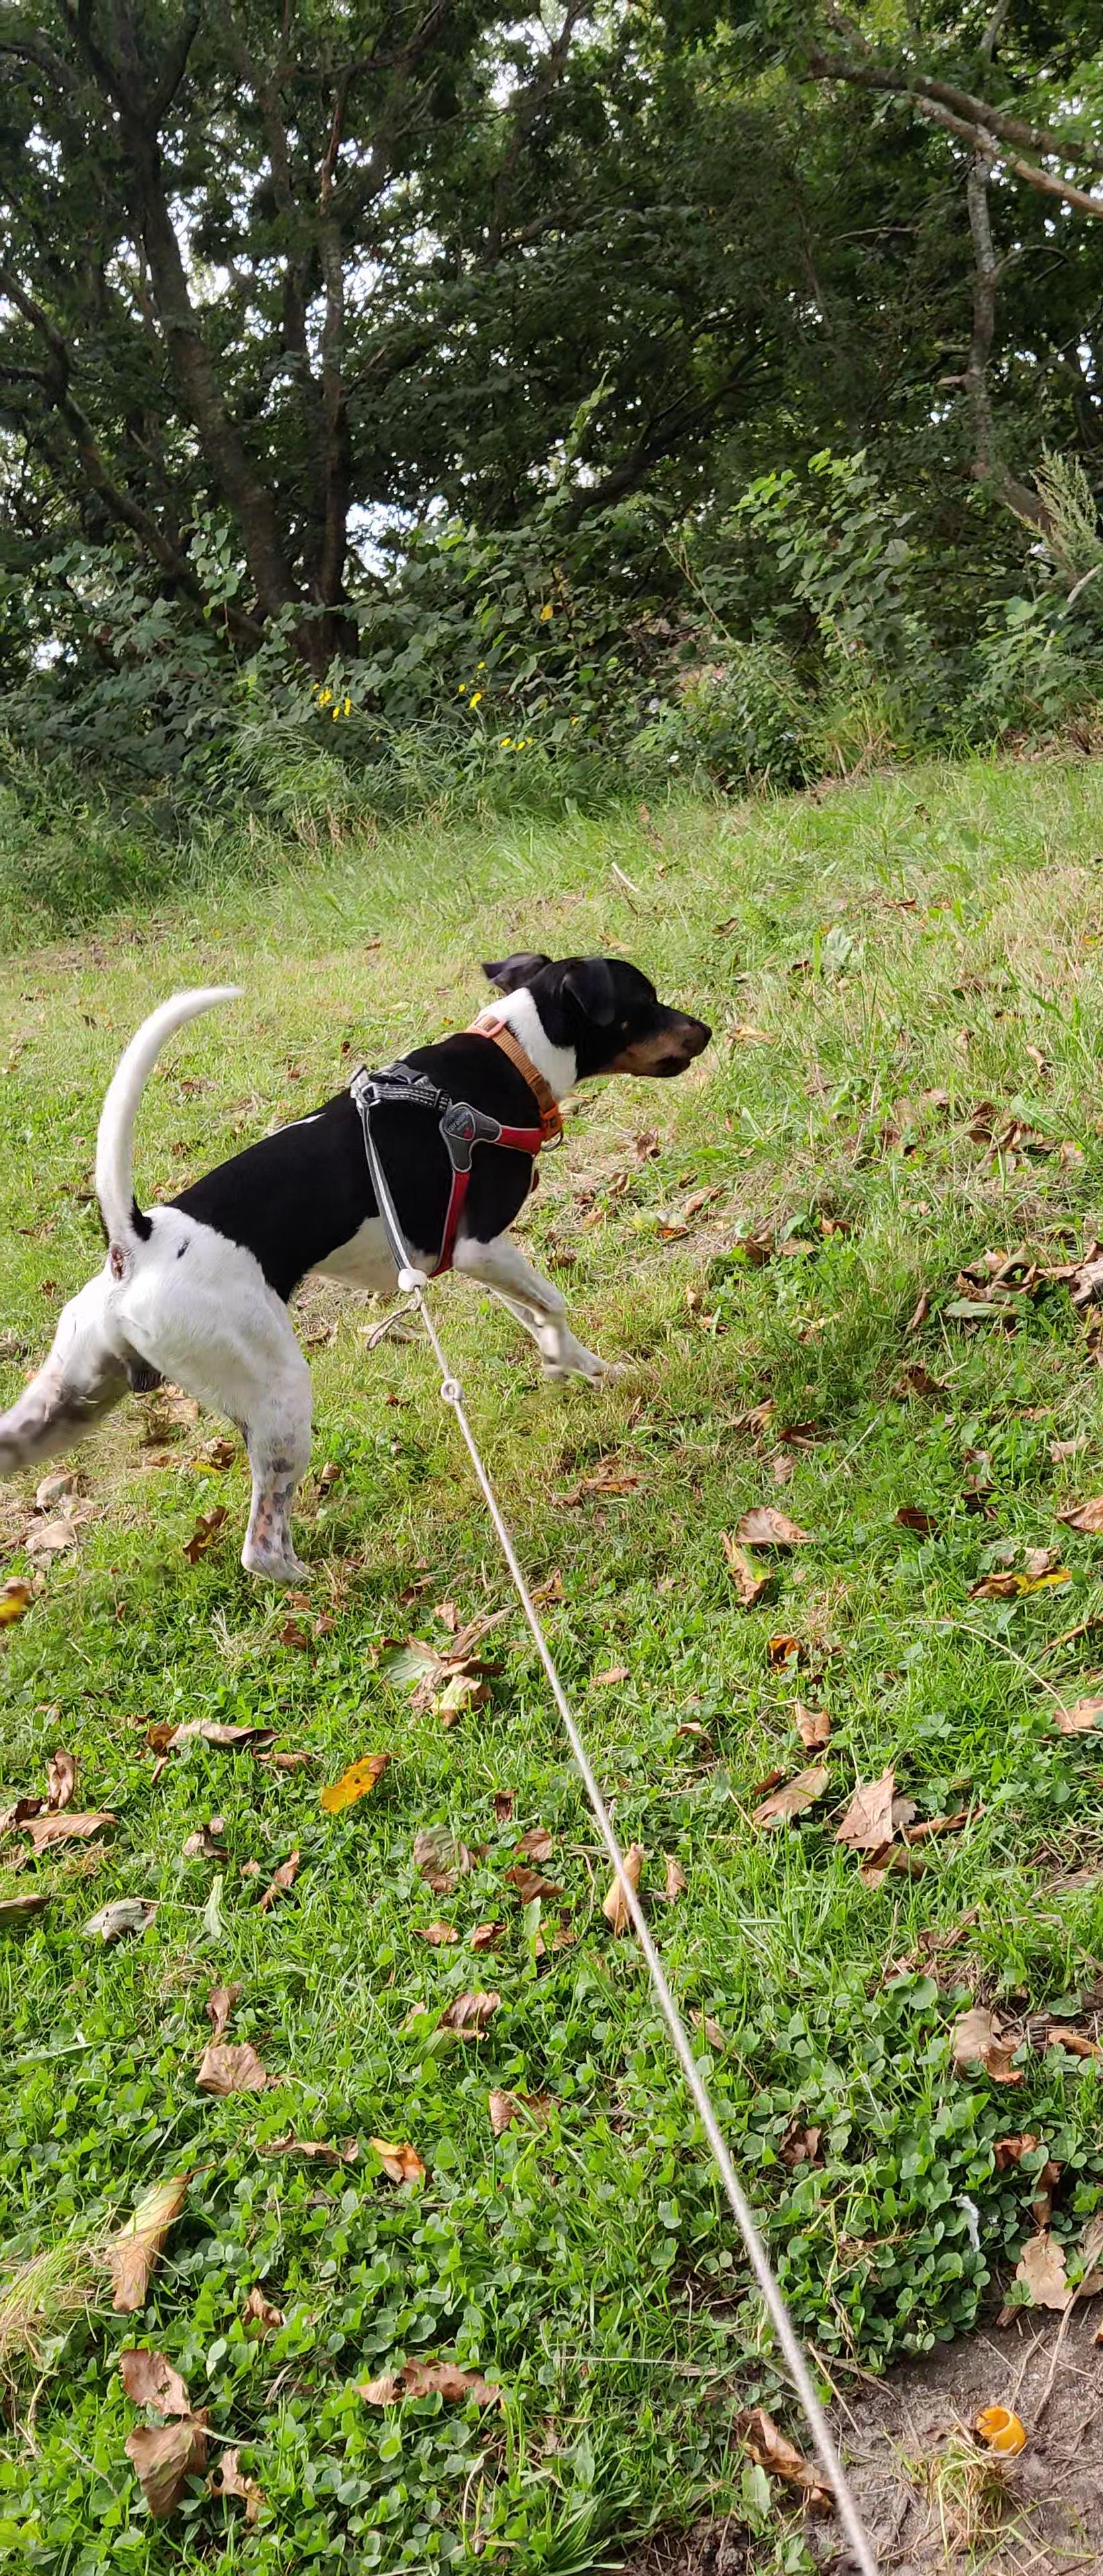Dog: (0, 950, 717, 1595)
